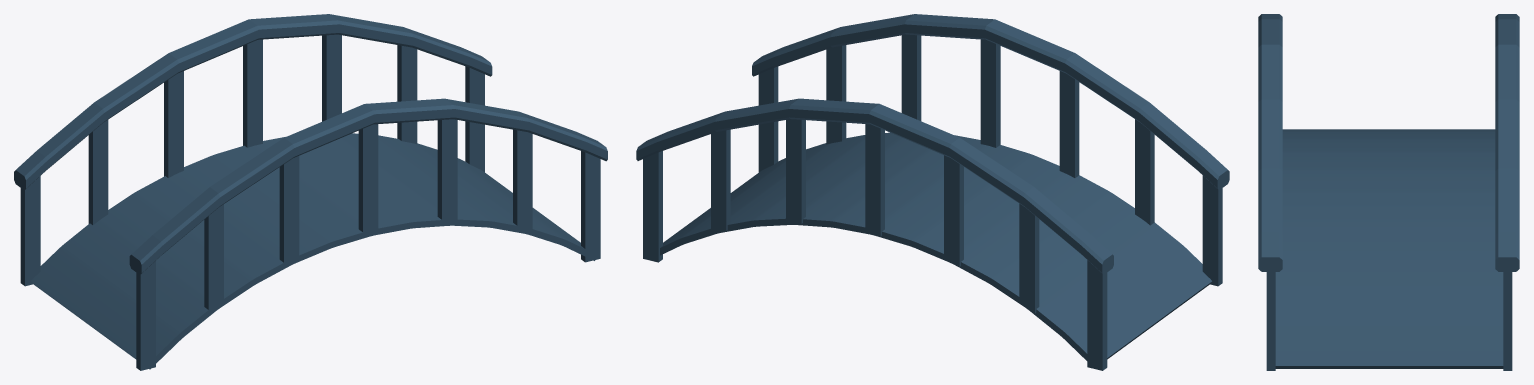
File: Pasarela_Buena.fbx
The picture shows the model from 3 angles, left to right: view 1: azimuth 30°, elevation 25°; view 2: azimuth 150°, elevation 25°; view 3: azimuth 270°, elevation 25°; orthographic projection. The views are drawn at different scales.
Visible parts, largest first — view 1: cuerpo_barca, Object006, Object005, Object004; view 2: cuerpo_barca, Object006, Object004, Object005; view 3: cuerpo_barca, Object004, Object005, Object006.
Part boxes in pixels (box(x1,y1,x2,y2)): cuerpo_barca: box(31, 133, 597, 369); Object006: box(20, 34, 600, 370); Object005: box(129, 98, 607, 274); Object004: box(14, 14, 492, 190); cuerpo_barca: box(660, 132, 1212, 360); Object006: box(643, 34, 1222, 370); Object004: box(636, 98, 1113, 274); Object005: box(752, 14, 1229, 190); cuerpo_barca: box(1275, 129, 1503, 368); Object004: box(1495, 14, 1519, 271); Object005: box(1258, 14, 1282, 271); Object006: box(1266, 272, 1512, 370).
Size of the model in its own units: 348 by 148 by 165.
